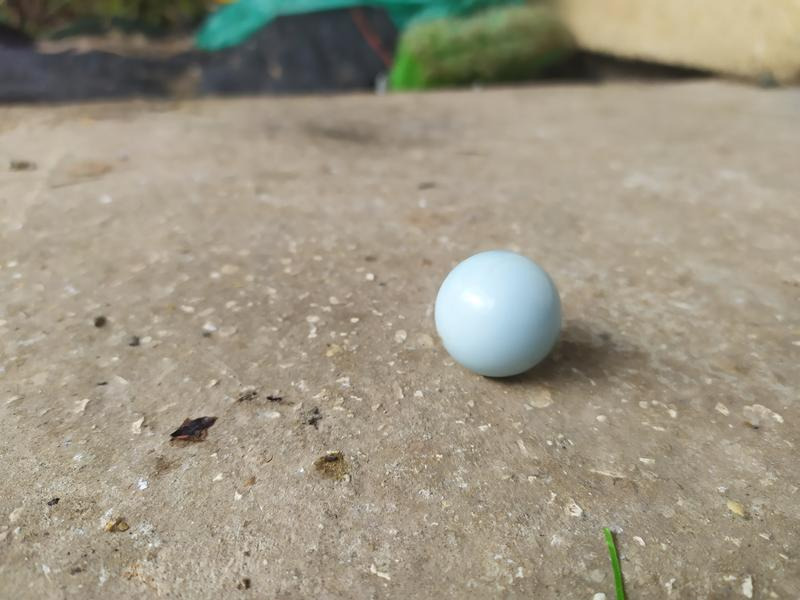Warning: (430, 245, 569, 381)
